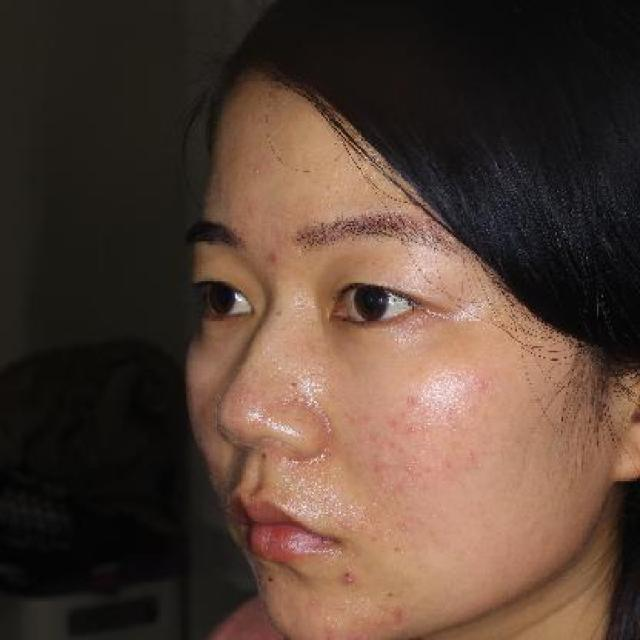blackhead: (333, 562, 362, 585), (283, 374, 305, 397), (254, 448, 272, 463), (265, 572, 279, 588)
